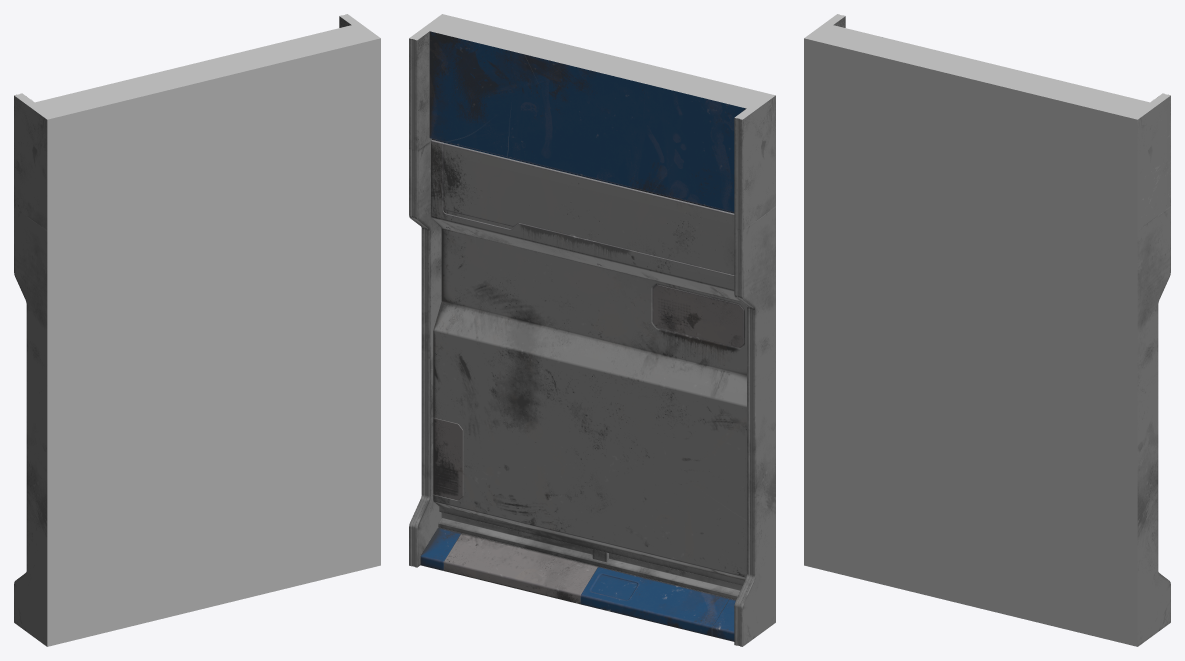
The model's file is SM_CorridorWall03_big.fbx.
3 renders of one model, left to right at view 1: azimuth 30°, elevation 25°; view 2: azimuth 150°, elevation 25°; view 3: azimuth 330°, elevation 25°, orthographic.
Visible parts, largest first — view 1: SM_CorridorWall03_big_LOD0; view 2: SM_CorridorWall03_big_LOD0; view 3: SM_CorridorWall03_big_LOD0.
Part boxes in pixels (x1=…): SM_CorridorWall03_big_LOD0: x1=14, y1=14, x2=380, y2=646; SM_CorridorWall03_big_LOD0: x1=409, y1=14, x2=775, y2=646; SM_CorridorWall03_big_LOD0: x1=804, y1=14, x2=1170, y2=646.
Size of the model in its own units: 320 by 55.37 by 483.
Materials: 3 (2 with a texture image).
